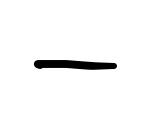minus: (32, 58, 117, 72)
